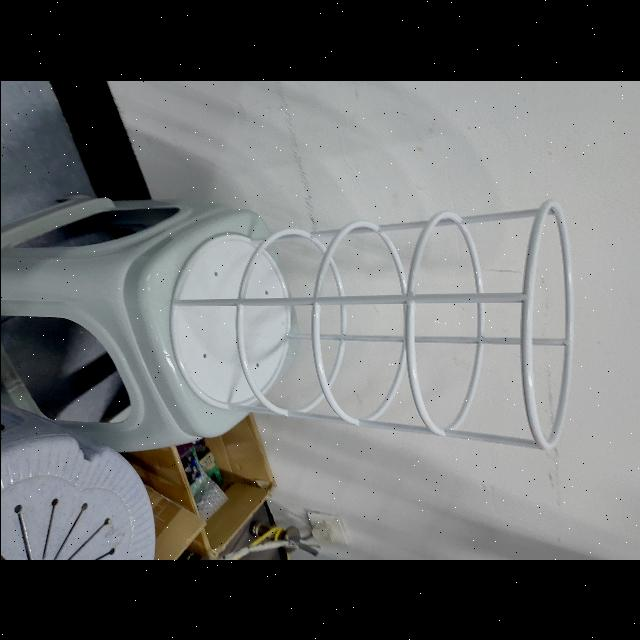S: (165, 194, 578, 456)
